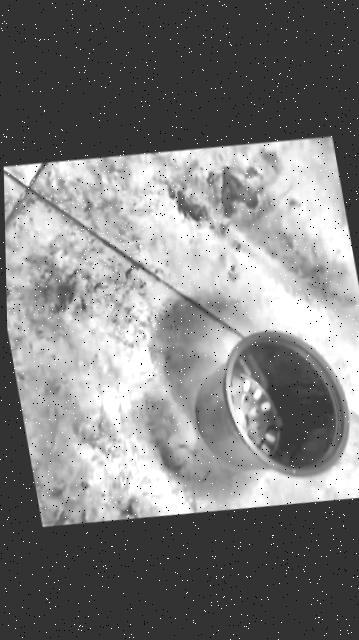pot: (180, 315, 357, 497)
